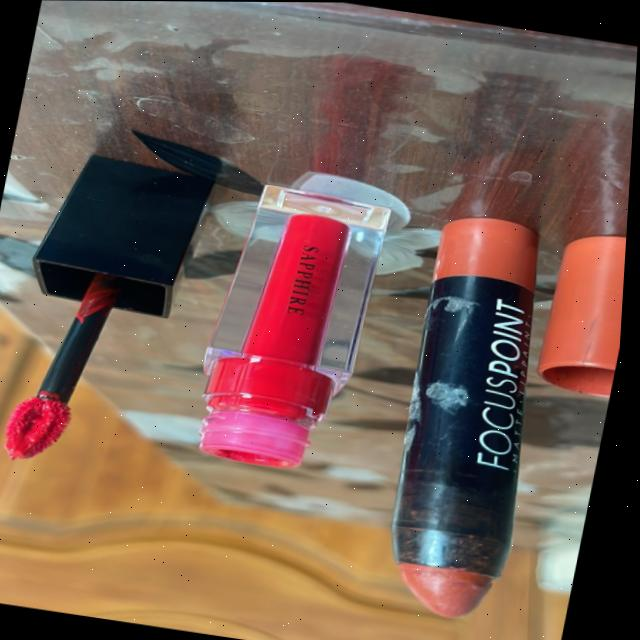lip gloss: (0, 112, 233, 499)
lip liner: (348, 188, 580, 638)
